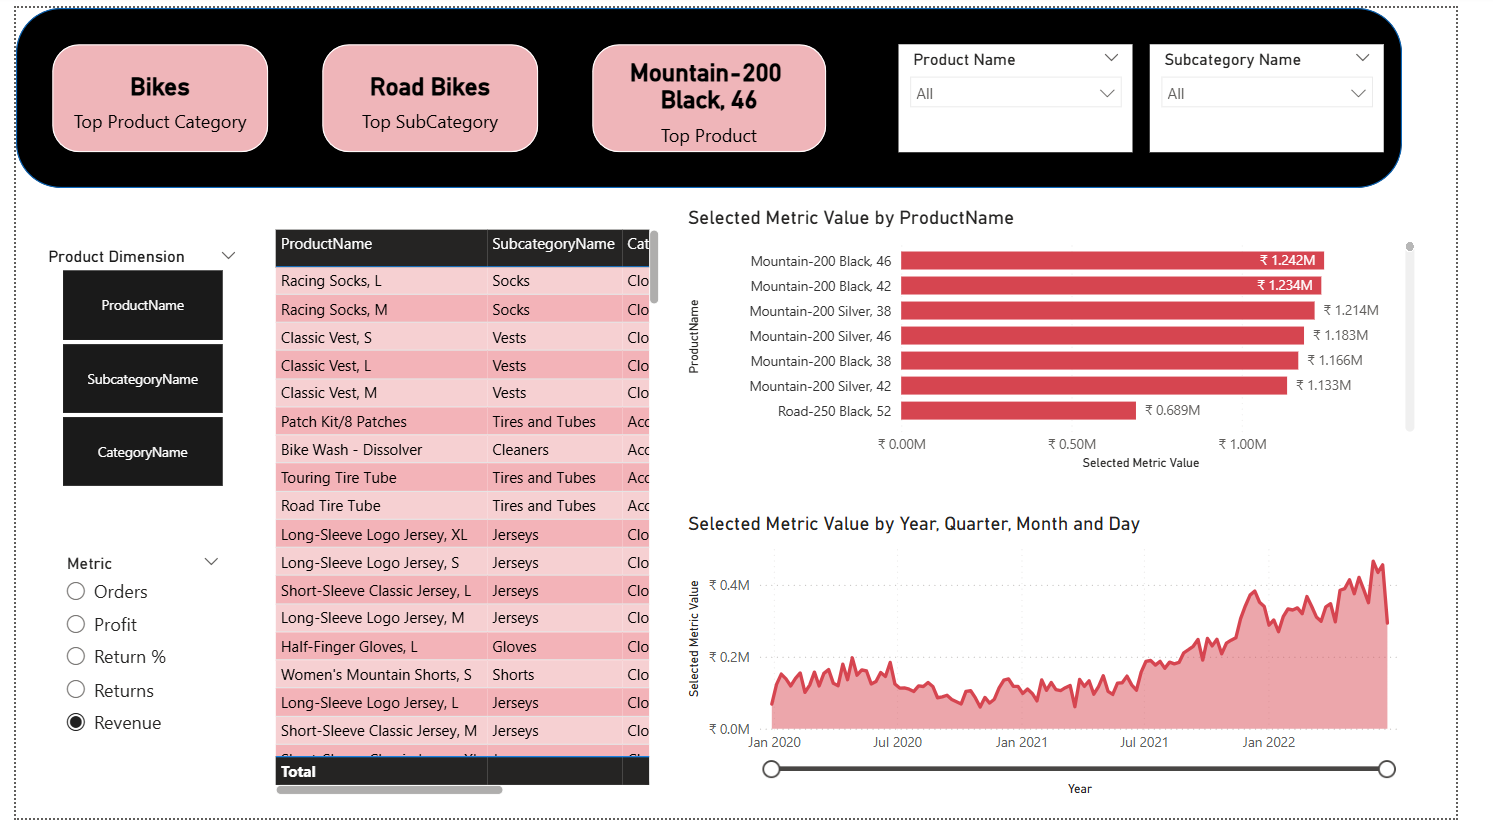

This screenshot's page, from the dashboard's own definition file:
{"tool":"powerbi","page":{"name":"Product","canvas":[1280,720],"ordinal":1},"visuals":[{"type":"shape","box":[0,0,1232,160],"z":0},{"type":"clusteredBarChart","fields":{"Category":["Product.ProductName","Product Subcategories.SubcategoryName","Product Categories.CategoryName"],"Y":["Measure Table.Selected Metric Value"]},"box":[592,176,656,240],"z":1000},{"type":"areaChart","fields":{"Category":["Calendar.First Day of Week.Variation.Date Hierarchy.Year","Calendar.First Day of Week.Variation.Date Hierarchy.Quarter","Calendar.First Day of Week.Variation.Date Hierarchy.Month","Calendar.First Day of Week.Variation.Date Hierarchy.Day"],"Y":["Measure Table.Selected Metric Value"]},"box":[592,448,656,256],"z":2000},{"type":"slicer","fields":{"Values":["Product.ProductName"]},"box":[784,32,208,96],"z":3000},{"type":"tableEx","fields":{"Values":["Product.ProductName","Product Subcategories.SubcategoryName","Product Categories.CategoryName","Measure Table.Selected Metric Value"]},"box":[224,192,352,512],"z":4000},{"type":"slicer","fields":{"Values":["Product Dimension Selector.Product Dimension Selector"]},"box":[16,208,192,224],"z":5000},{"type":"slicer","fields":{"Values":["Metric Selector.Metric"]},"box":[32,480,160,208],"z":6000},{"type":"shape","box":[272,32,192,96],"z":7000},{"type":"shape","box":[512,32,208,96],"z":8000},{"type":"card","fields":{"Values":["Measure Table.Top Product Name"]},"box":[512,32,208,96],"z":9000},{"type":"shape","box":[32,32,192,96],"z":10000},{"type":"card","fields":{"Values":["Measure Table.Top Sub Category Name"]},"box":[272,32,192,96],"z":11000},{"type":"card","title":"ggg","fields":{"Values":["Measure Table.Top Product Category Name"]},"box":[32,32,192,96],"z":12000},{"type":"slicer","fields":{"Values":["Product Subcategories.SubcategoryName"]},"box":[1008,32,208,96],"z":13000}]}

Visuals, with their boxes in screenshot pixels (x1, y1, x2, y2), scaled from the page's 1280x720 canvas onto the 1493x832 screenshot:
shape: x1=0, y1=0, x2=1437, y2=185
clusteredBarChart - Product.ProductName x Product Subcategories.SubcategoryName: x1=691, y1=203, x2=1456, y2=481
areaChart - Calendar.First Day of Week.Variation.Date Hierarchy.Year x Calendar.First Day of Week.Variation.Date Hierarchy.Quarter: x1=691, y1=518, x2=1456, y2=814
slicer - Product.ProductName: x1=914, y1=37, x2=1157, y2=148
tableEx - Product.ProductName x Product Subcategories.SubcategoryName: x1=261, y1=222, x2=672, y2=814
slicer - Product Dimension Selector.Product Dimension Selector: x1=19, y1=240, x2=243, y2=499
slicer - Metric Selector.Metric: x1=37, y1=555, x2=224, y2=795
shape: x1=317, y1=37, x2=541, y2=148
shape: x1=597, y1=37, x2=840, y2=148
card - Measure Table.Top Product Name: x1=597, y1=37, x2=840, y2=148
shape: x1=37, y1=37, x2=261, y2=148
card - Measure Table.Top Sub Category Name: x1=317, y1=37, x2=541, y2=148
"ggg" card: x1=37, y1=37, x2=261, y2=148
slicer - Product Subcategories.SubcategoryName: x1=1176, y1=37, x2=1418, y2=148
